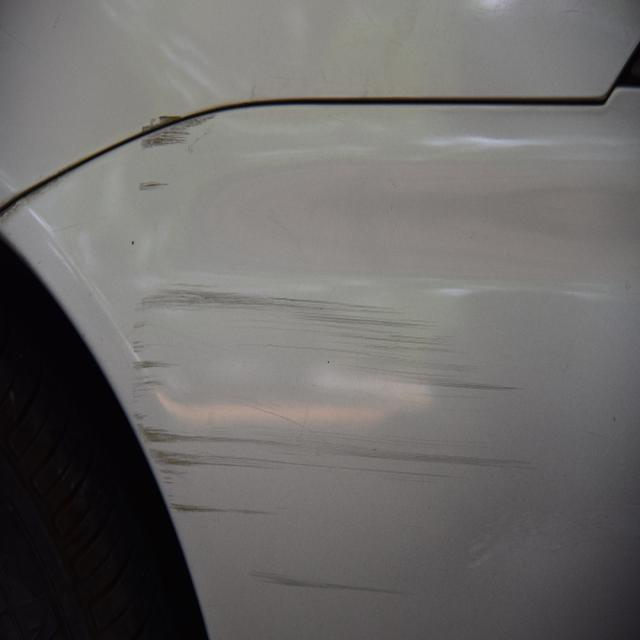scratch: (130, 112, 533, 607)
